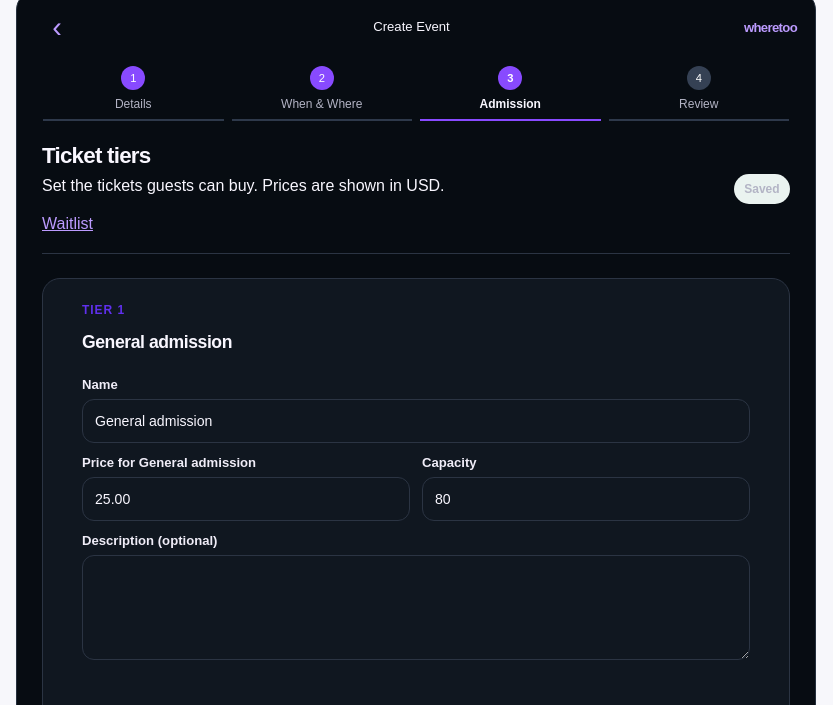
OrganizerTicketTiersPage › keeps local tier values on a safe save failure and converts dollars exactly to minor units
Replace the text in the field labelled "Price for General admission" with "19.99" at [246, 499], box top-left (82, 477), bottom-right (410, 521)
(page scrolled)
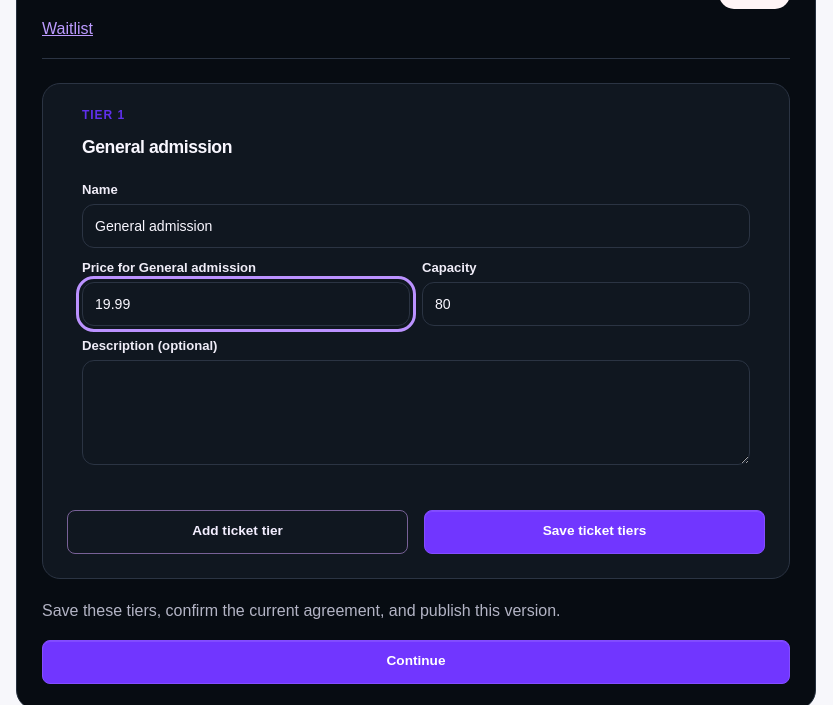
Click the button "Save ticket tiers" at [594, 532], box top-left (424, 510), bottom-right (765, 554)
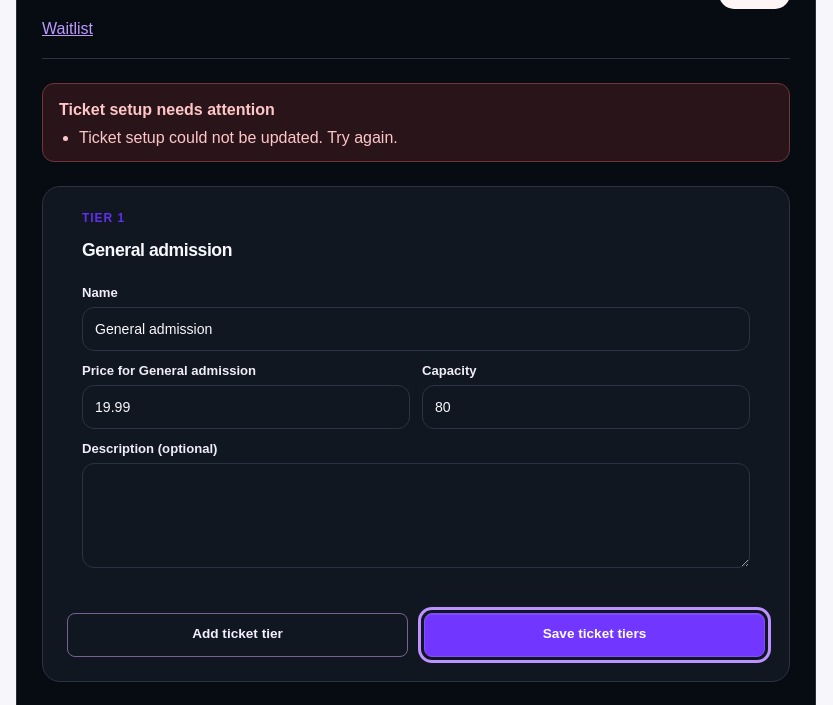
Result: the list item "Ticket setup could not be updated. Try again." is shown at top-left (79, 128), bottom-right (398, 146)
